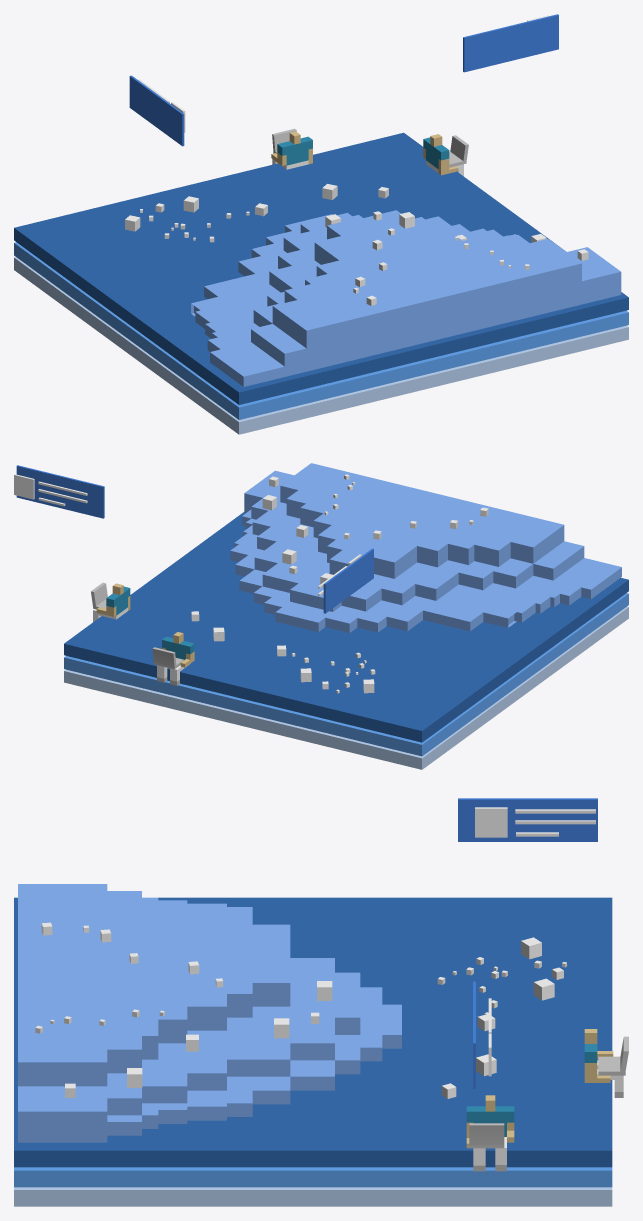
Rendered from island.obj.
The picture shows the model from 3 angles, top to bottom: view 1: azimuth 30°, elevation 25°; view 2: azimuth 150°, elevation 25°; view 3: azimuth 270°, elevation 25°; orthographic projection. The views are drawn at different scales.
Parts seen in each view (by area): view 1: 第二层, 阶梯, 第三层, 第一层, 立方体_1, 立方体, 人_1, 人; view 2: 第二层, 阶梯, 第三层, 第一层, 立方体_1, 立方体, 人_1, 人, 电脑_1, 立方体.2_1; view 3: 第二层, 阶梯, 第三层, 第一层, 立方体, 人, 人_1, 立方体.2, 电脑, 电脑_1.
Part boxes in pixels (x1,y1,x2,y2): 第二层: (14,132,628,404); 阶梯: (191,210,621,386); 第三层: (14,242,628,419); 第一层: (14,257,628,434); 立方体_1: (463,14,558,72); 立方体: (129,75,184,146); 人_1: (271,131,312,169); 人: (423,134,463,176); 第二层: (64,512,628,742); 阶梯: (230,463,621,632); 第三层: (64,593,628,756); 第一层: (64,606,628,769); 立方体_1: (16,465,104,518); 立方体: (323,548,373,613); 人_1: (157,632,194,685); 人: (93,583,130,621); 电脑_1: (152,647,183,669); 立方体.2_1: (14,474,34,499); 第二层: (14,897,612,1167); 阶梯: (18,884,401,1142); 第三层: (14,1167,612,1187); 第一层: (14,1187,612,1206); 立方体: (458,798,597,841); 人: (466,1095,514,1171); 人_1: (584,1029,623,1097); 立方体.2: (475,807,507,837); 电脑: (469,1123,504,1148); 电脑_1: (598,1036,628,1075).
Size of the model in its own units: 16428 by 5516 by 13366.
